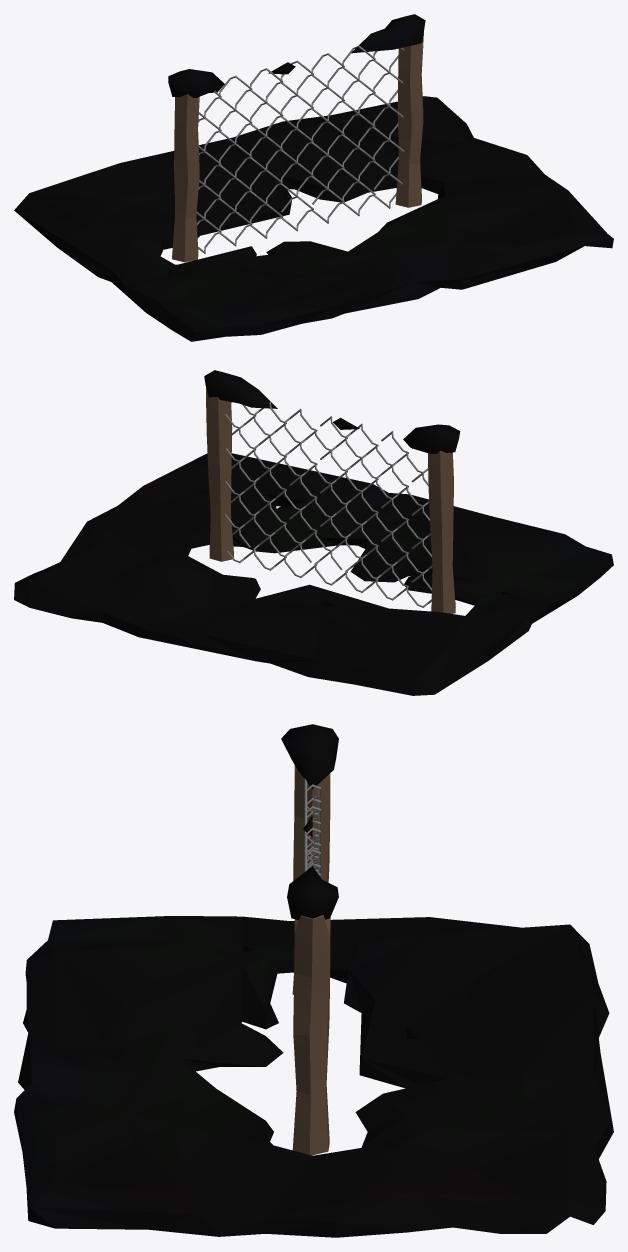
The model's file is FenceGrill-Sn2.fbx.
3 renders of one model, top to bottom at view 1: azimuth 30°, elevation 25°; view 2: azimuth 150°, elevation 25°; view 3: azimuth 270°, elevation 25°, orthographic. The views are drawn at different scales.
Parts seen in each view (by area): view 1: Snow, Fence; view 2: Snow, Fence; view 3: Snow, Fence.
Boxes of the visible parts, x1,y1,x2,y2 form: Snow: (14, 14, 613, 341); Fence: (172, 32, 423, 262); Snow: (14, 370, 613, 695); Fence: (206, 388, 455, 613); Snow: (14, 724, 613, 1237); Fence: (292, 765, 330, 1155).
Bounding box in the file's own units: 15.6 × 6.44 × 12.82.
